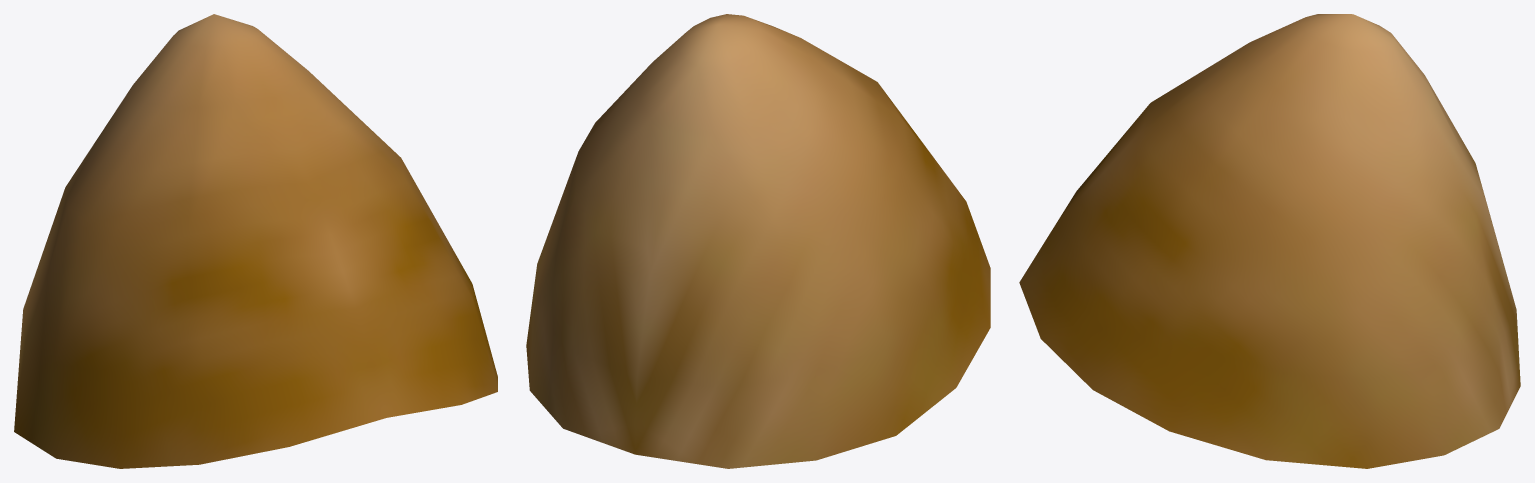
The model's file is korean_hat_01.dae.
3 renders of one model, left to right at view 1: azimuth 30°, elevation 25°; view 2: azimuth 150°, elevation 25°; view 3: azimuth 270°, elevation 25°, orthographic. The views are drawn at different scales.
Parts seen in each view (by area): view 1: illy_pilos; view 2: illy_pilos; view 3: illy_pilos.
Boxes of the visible parts, x1,y1,x2,y2 form: illy_pilos: [14, 14, 497, 468]; illy_pilos: [526, 14, 990, 468]; illy_pilos: [1019, 14, 1520, 468].
Size of the model in its own units: 0.4495 by 0.4972 by 0.4091.
